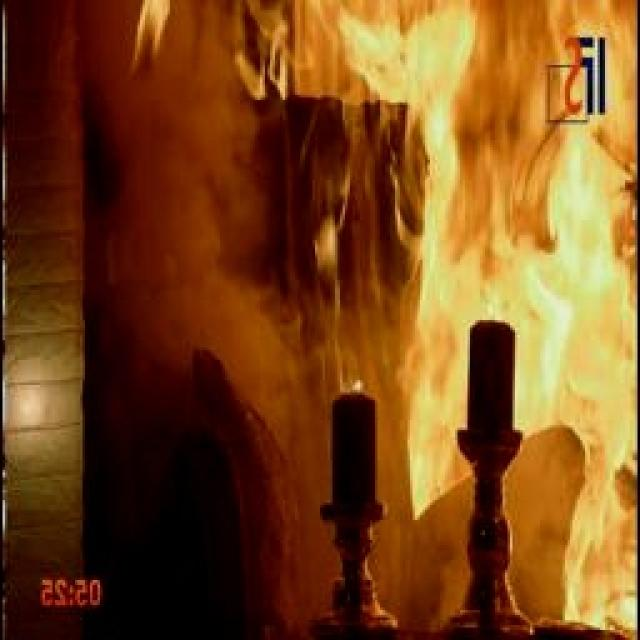fire: (323, 5, 635, 640)
